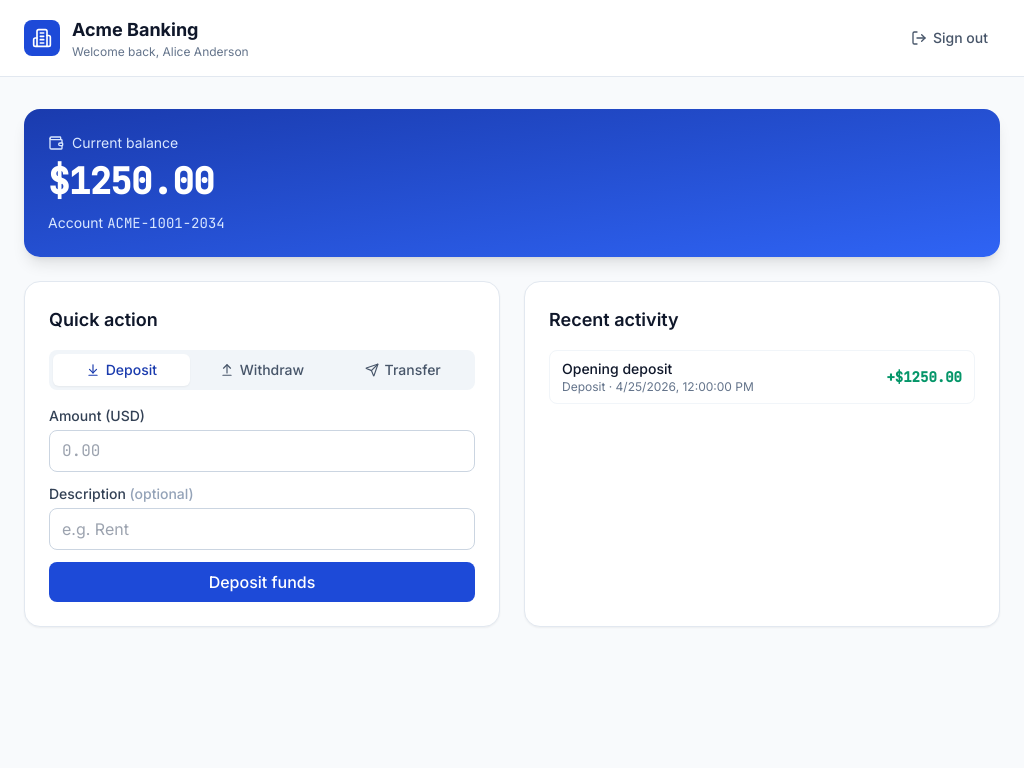
Test case: <Dashboard /> deposit flow › refuses empty/zero amount before hitting the API
The image size is (1024, 768).
Expected: the text "Opening deposit" is shown, [562,360,672,377]
Click the button "Deposit funds" at (262, 582), box [49,562,475,602]
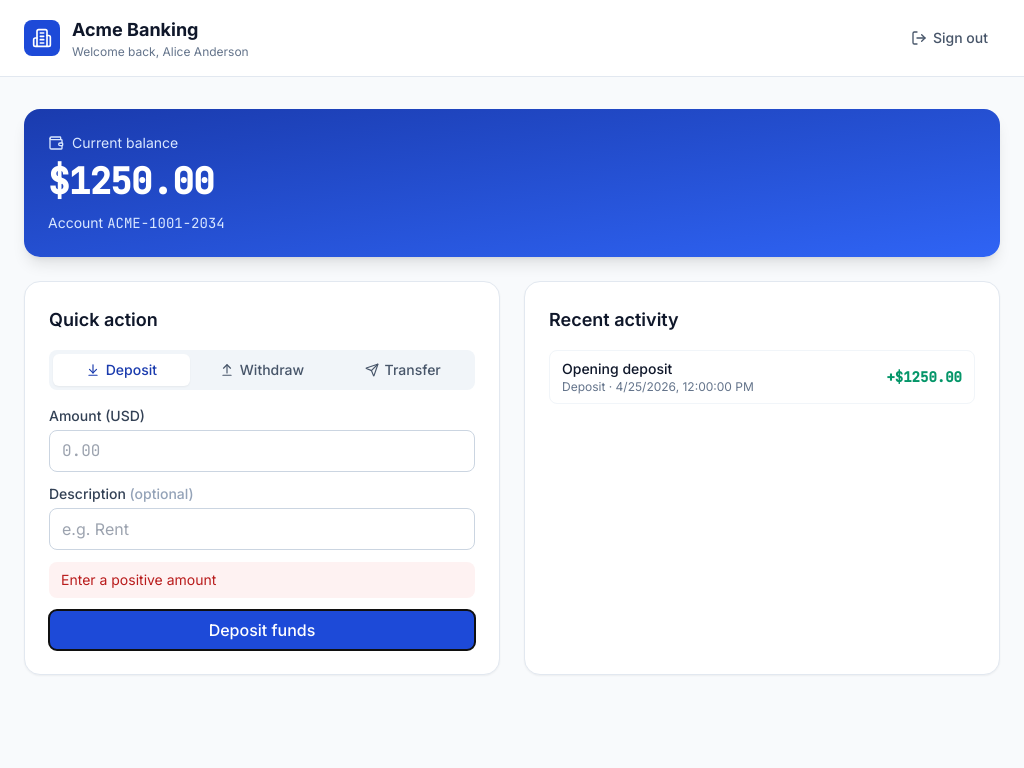
Expected: the text "Enter a positive amount" is shown, [49,562,475,598]
